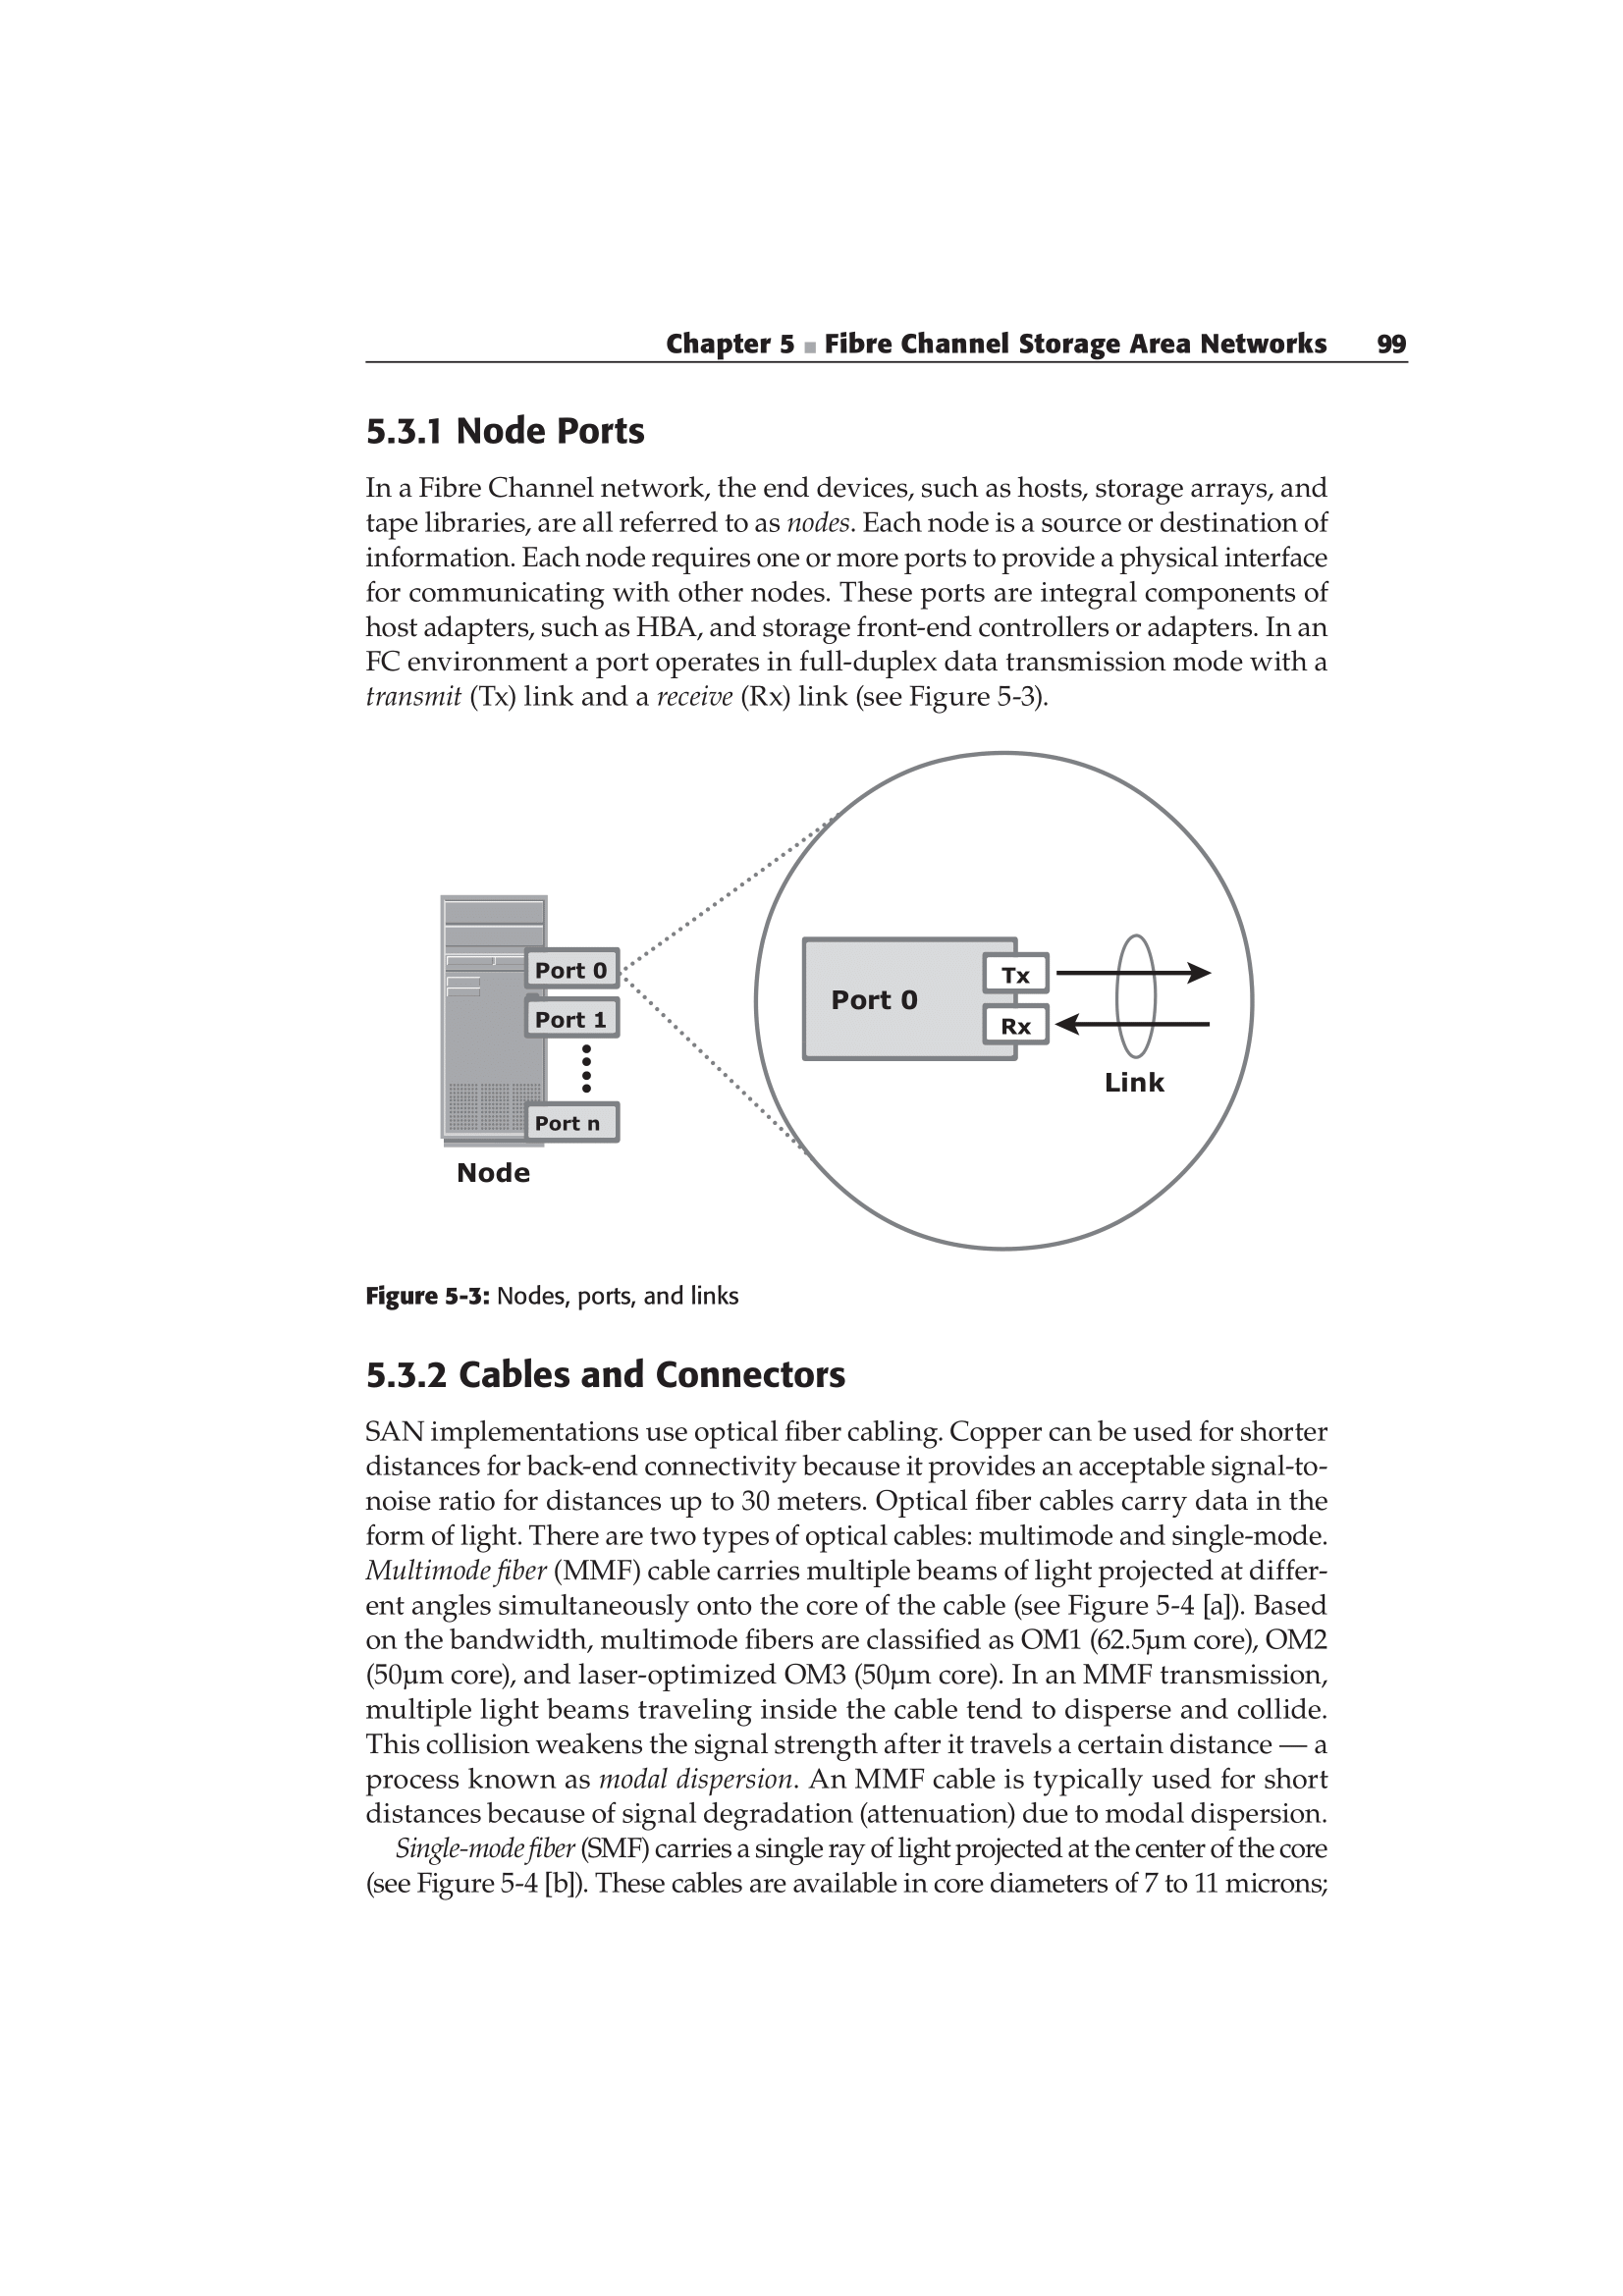Image: (197, 741, 1488, 1341)
Paragraph: (263, 1425, 1416, 1919), (281, 469, 1358, 725), (662, 281, 1425, 390), (272, 1350, 973, 1411), (293, 411, 759, 456)
